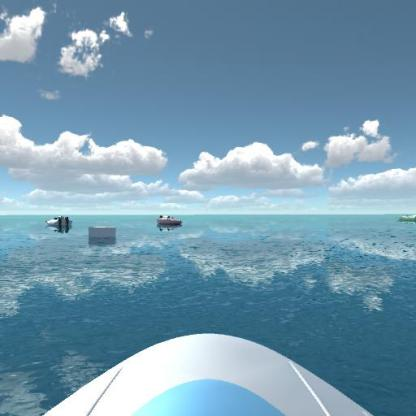usv0: (395, 211, 415, 227)
usv1: (43, 207, 78, 234)
usv3: (150, 210, 189, 233)
